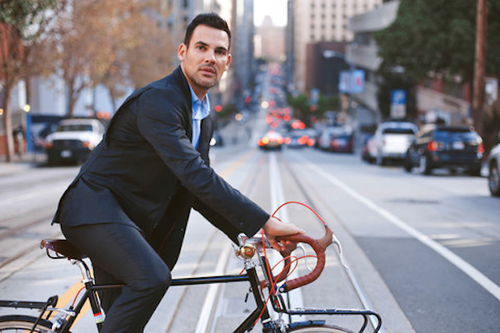bikerider: (1, 7, 394, 332)
